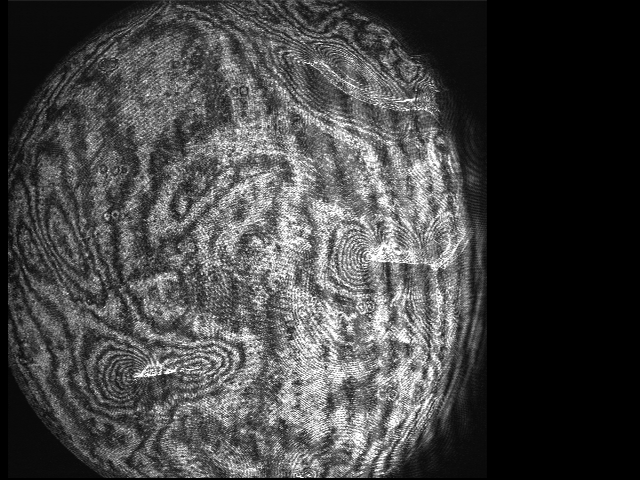plume: (82, 332, 240, 411), (323, 214, 442, 296)
